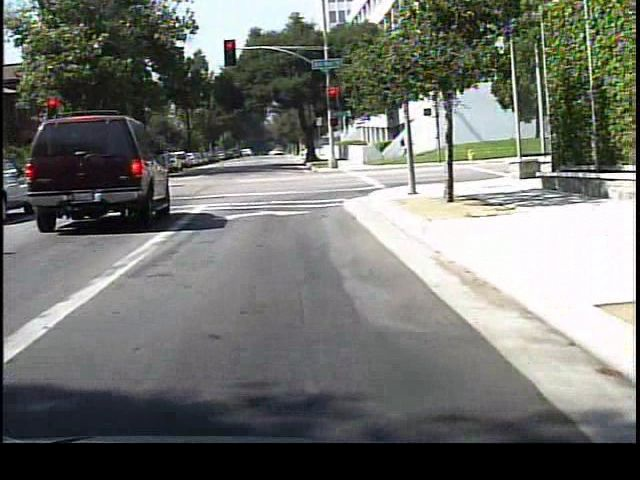person: (397, 127, 418, 167)
